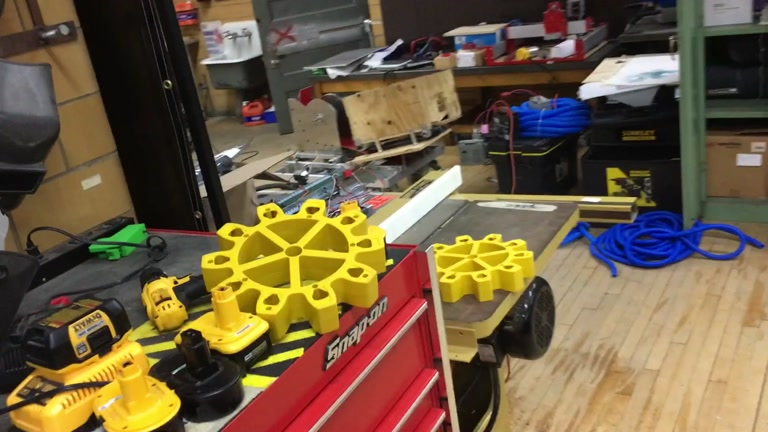gear: (199, 197, 385, 341), (415, 233, 536, 304)
